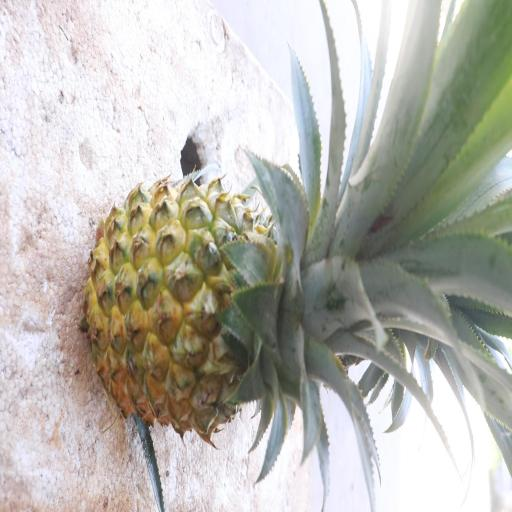Pineapple - v8 v1: (80, 166, 392, 448)
